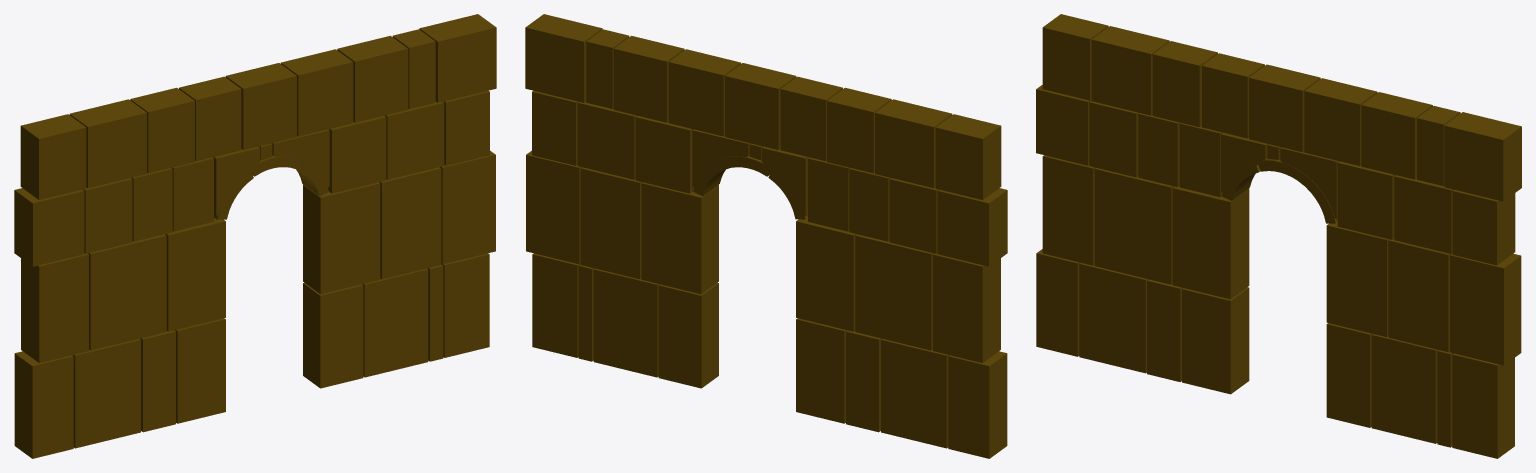
Rendered from WallDoor.fbx.
3 views of the same model, side by side, from view 1: azimuth 30°, elevation 25°; view 2: azimuth 150°, elevation 25°; view 3: azimuth 330°, elevation 25° (orthographic).
Visible parts, largest first — view 1: Wall.002; view 2: Wall.002; view 3: Wall.002.
Boxes of the visible parts, <box> form: Wall.002: <box>14,14,496,458</box>; Wall.002: <box>525,14,1007,458</box>; Wall.002: <box>1036,14,1521,458</box>.
Bounding box in the file's own units: 3032 × 1990 × 210.
